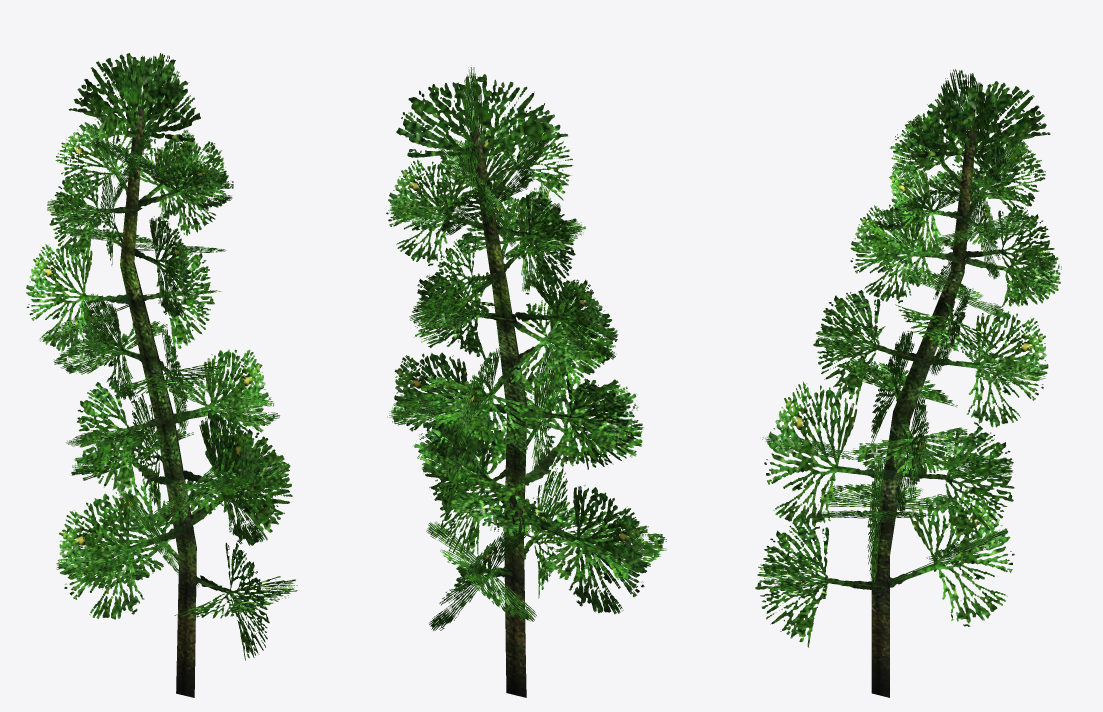
File: bush_small_cabomba02.dae
3 views of the same model, side by side, from view 1: azimuth 30°, elevation 25°; view 2: azimuth 150°, elevation 25°; view 3: azimuth 270°, elevation 25° (orthographic). The views are drawn at different scales.
Visible parts, largest first — view 1: cabomba02; view 2: cabomba02; view 3: cabomba02.
Boxes of the visible parts, x1,y1,x2,y2 form: cabomba02: (26,53,299,697); cabomba02: (386,65,666,697); cabomba02: (755,69,1061,697).
Size of the model in its own units: 0.2554 by 0.5616 by 0.2849.
